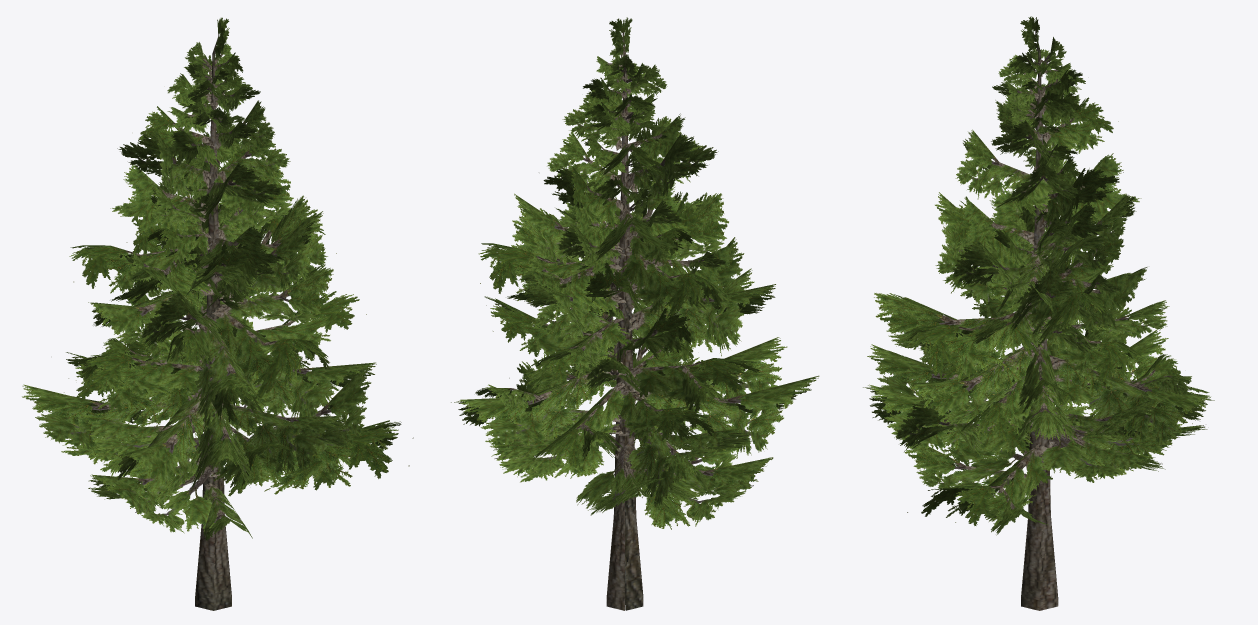
The model's file is Tree_evergreen.fbx.
3 views of the same model, side by side, from view 1: azimuth 30°, elevation 25°; view 2: azimuth 150°, elevation 25°; view 3: azimuth 270°, elevation 25° (orthographic).
Parts seen in each view (by area): view 1: polySurface190, polySurface191, polySurface193, polySurface183, polySurface110, polySurface187, polySurface185, polySurface170, polySurface161, polySurface169, polySurface217, polySurface118 (+37 smaller); view 2: polySurface110, polySurface213, polySurface187, polySurface217, polySurface185, polySurface136, polySurface183, polySurface186, polySurface184, polySurface118, polySurface154, polySurface169 (+46 smaller); view 3: polySurface213, polySurface110, polySurface193, polySurface170, polySurface190, polySurface176, polySurface160, polySurface191, polySurface135, polySurface165, polySurface167, polySurface177 (+42 smaller).
Part boxes in pixels (left/top/right/bottom): polySurface190: left=226, top=420, right=413, bottom=496; polySurface191: left=222, top=403, right=348, bottom=475; polySurface193: left=201, top=307, right=329, bottom=404; polySurface183: left=22, top=384, right=194, bottom=454; polySurface110: left=195, top=54, right=231, bottom=610; polySurface187: left=116, top=388, right=215, bottom=494; polySurface185: left=68, top=352, right=205, bottom=395; polySurface170: left=251, top=362, right=376, bottom=421; polySurface161: left=220, top=264, right=333, bottom=323; polySurface169: left=88, top=466, right=219, bottom=533; polySurface217: left=69, top=244, right=209, bottom=293; polySurface118: left=117, top=131, right=210, bottom=200; polySurface110: left=606, top=56, right=643, bottom=610; polySurface213: left=451, top=359, right=623, bottom=446; polySurface187: left=631, top=375, right=819, bottom=458; polySurface217: left=619, top=246, right=722, bottom=319; polySurface185: left=627, top=358, right=772, bottom=402; polySurface136: left=630, top=282, right=775, bottom=345; polySurface183: left=629, top=406, right=710, bottom=508; polySurface186: left=619, top=387, right=723, bottom=440; polySurface184: left=524, top=381, right=624, bottom=468; polySurface118: left=626, top=133, right=718, bottom=201; polySurface154: left=478, top=243, right=621, bottom=301; polySurface169: left=644, top=457, right=773, bottom=529; polySurface213: left=1049, top=355, right=1214, bottom=446; polySurface110: left=1021, top=50, right=1058, bottom=610; polySurface193: left=904, top=307, right=1038, bottom=381; polySurface170: left=908, top=342, right=1035, bottom=425; polySurface190: left=907, top=444, right=1052, bottom=526; polySurface176: left=1040, top=428, right=1165, bottom=482; polySurface160: left=874, top=293, right=1034, bottom=351; polySurface191: left=863, top=384, right=1031, bottom=455; polySurface135: left=955, top=129, right=1035, bottom=199; polySurface165: left=1038, top=316, right=1142, bottom=386; polySurface167: left=902, top=439, right=1027, bottom=490; polySurface177: left=867, top=344, right=1023, bottom=402.
Bounding box in the file's own units: 18.88 × 34.28 × 20.62.
Materials: 1 (1 with a texture image).
